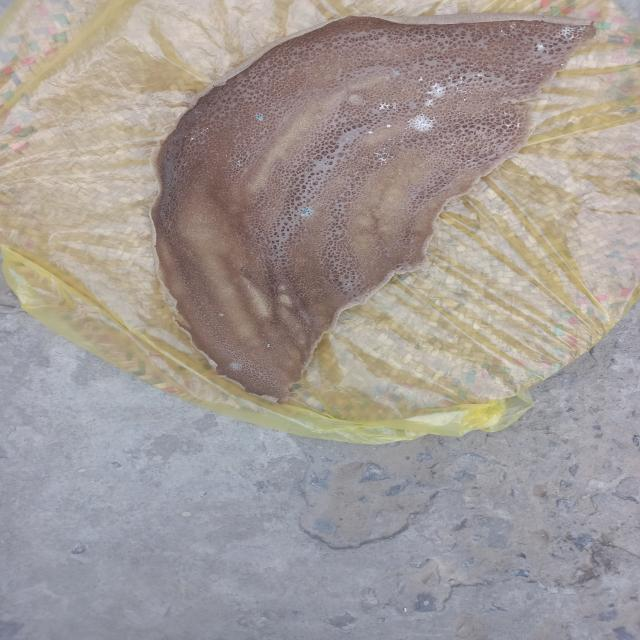injera_mold: (406, 112, 439, 134), (424, 78, 450, 100), (374, 144, 396, 170), (554, 24, 580, 44), (293, 202, 315, 221), (226, 356, 248, 374), (530, 40, 550, 58), (250, 110, 270, 124), (376, 98, 393, 114)
